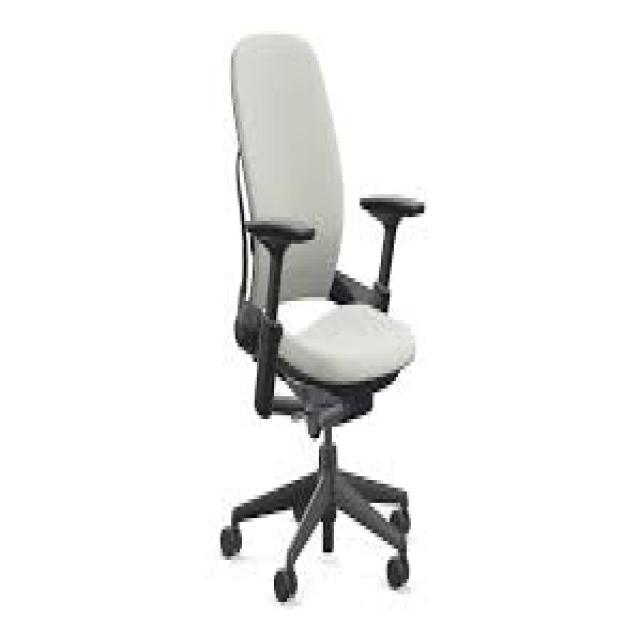chair: (207, 1, 452, 640)
